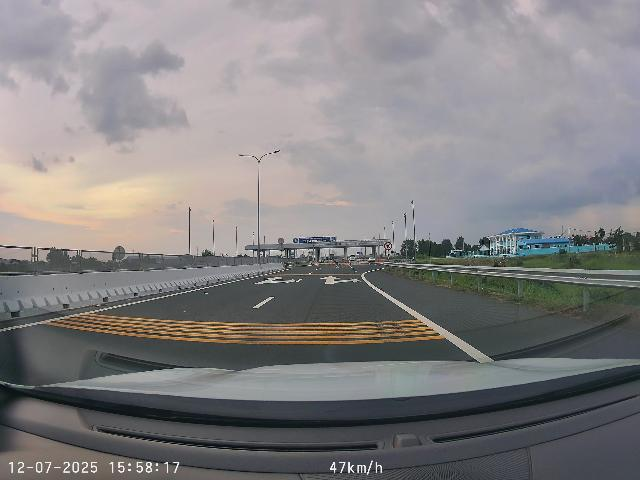127-toc-do-toi-da-40: (384, 242, 392, 250)
